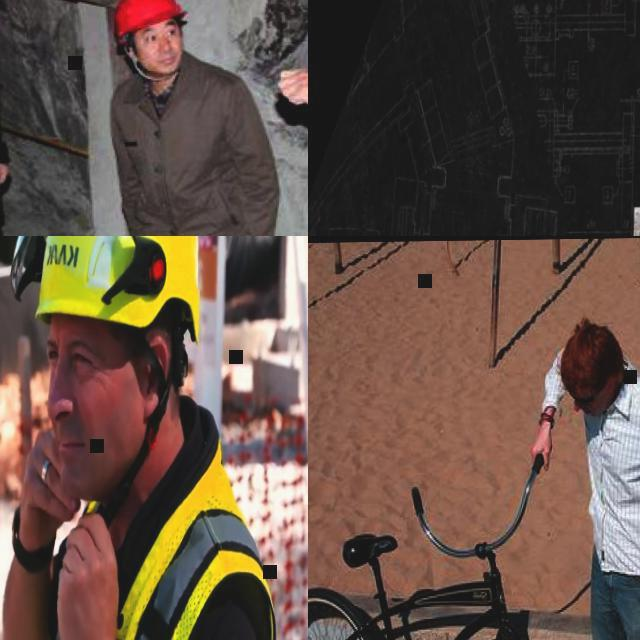helmet: (36, 236, 204, 347), (115, 0, 188, 39)
no_helmet: (560, 321, 626, 392)
no_mask: (46, 371, 137, 504), (584, 370, 624, 418), (136, 41, 181, 70)
no_vest: (112, 71, 236, 236)
person: (3, 236, 286, 640), (104, 0, 283, 236), (530, 316, 640, 640)
vest: (39, 441, 282, 640), (585, 381, 640, 574)
